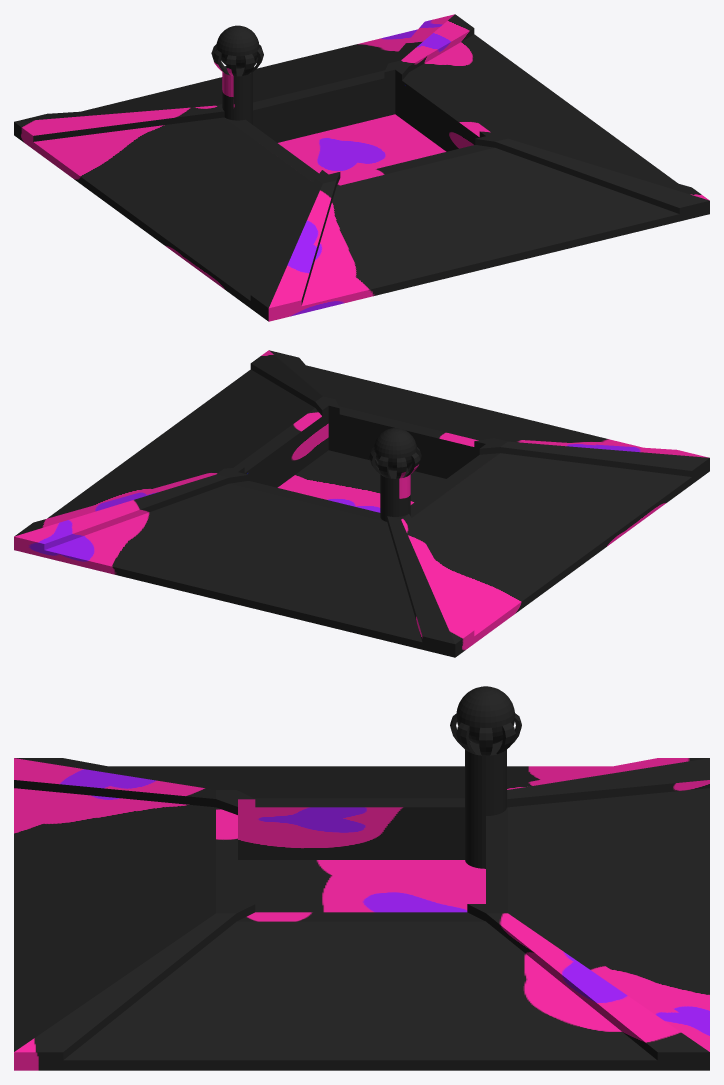
File: CubeFriendHole.fbx
3 views of the same model, one above another, from view 1: azimuth 30°, elevation 25°; view 2: azimuth 150°, elevation 25°; view 3: azimuth 270°, elevation 25° (orthographic). The views are drawn at different scales.
Parts seen in each view (by area): view 1: Cube.001; view 2: Cube.001; view 3: Cube.001.
Boxes of the visible parts, left/top/right/bottom form: Cube.001: left=14, top=14, right=709, bottom=321; Cube.001: left=14, top=350, right=709, bottom=657; Cube.001: left=14, top=686, right=709, bottom=1070.
Size of the model in its own units: 1271 by 367 by 1271.
1 material, 1 textured.
